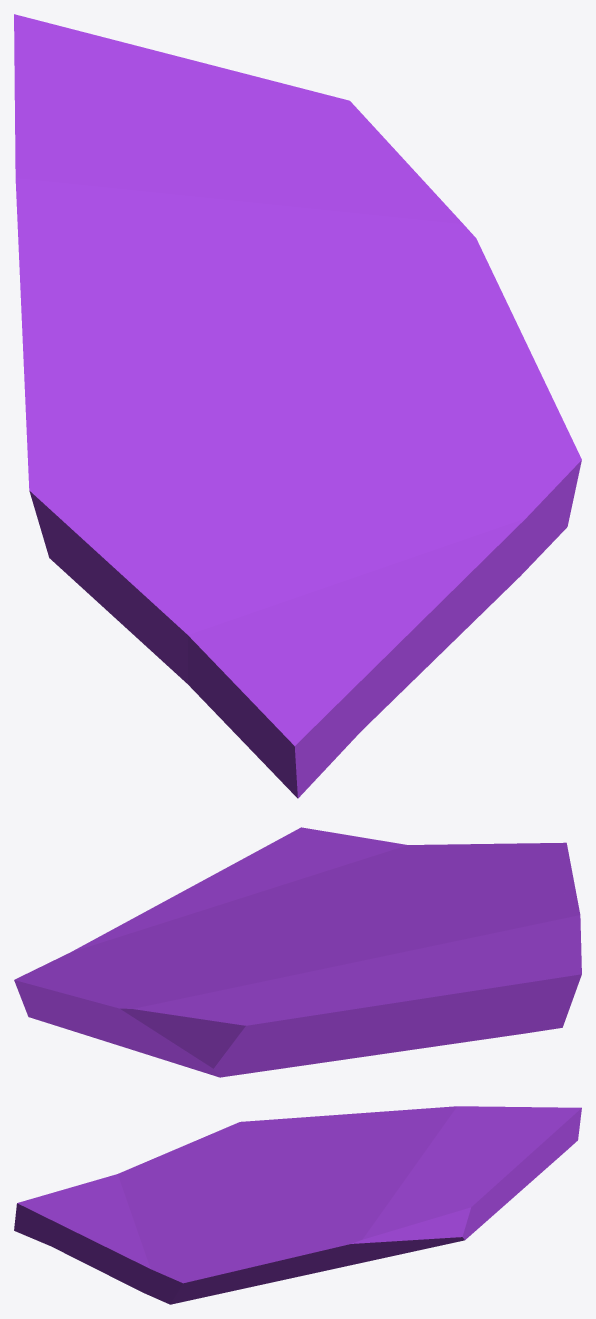
File: Glass_100_3_17_chunks.fbx
The picture shows the model from 3 angles, top to bottom: view 1: azimuth 30°, elevation 25°; view 2: azimuth 210°, elevation 25°; view 3: azimuth 270°, elevation 25°; orthographic projection. The views are drawn at different scales.
Visible parts, largest first — view 1: Glass_100_3_17_0, Glass_100_3_17_2, Glass_100_3_17_3, Glass_100_3_17_6, Glass_100_3_17_5; view 2: Glass_100_3_17_2, Glass_100_3_17_0, Glass_100_3_17_6, Glass_100_3_17_3, Glass_100_3_17_5; view 3: Glass_100_3_17_0, Glass_100_3_17_2, Glass_100_3_17_3, Glass_100_3_17_6, Glass_100_3_17_5, Glass_100_3_17_1.
Part boxes in pixels (x1=…): Glass_100_3_17_0: x1=52, y1=353, x2=581, y2=798; Glass_100_3_17_2: x1=91, y1=34, x2=555, y2=405; Glass_100_3_17_3: x1=20, y1=258, x2=287, y2=560; Glass_100_3_17_6: x1=14, y1=14, x2=158, y2=282; Glass_100_3_17_5: x1=136, y1=107, x2=251, y2=293; Glass_100_3_17_2: x1=40, y1=936, x2=504, y2=1077; Glass_100_3_17_0: x1=14, y1=827, x2=537, y2=1028; Glass_100_3_17_6: x1=437, y1=892, x2=581, y2=1032; Glass_100_3_17_3: x1=309, y1=842, x2=575, y2=942; Glass_100_3_17_5: x1=344, y1=929, x2=527, y2=1038; Glass_100_3_17_0: x1=14, y1=1131, x2=297, y2=1304; Glass_100_3_17_2: x1=224, y1=1130, x2=556, y2=1281; Glass_100_3_17_3: x1=218, y1=1112, x2=383, y2=1192; Glass_100_3_17_6: x1=382, y1=1106, x2=581, y2=1151; Glass_100_3_17_5: x1=344, y1=1143, x2=566, y2=1179; Glass_100_3_17_1: x1=229, y1=1279, x2=283, y2=1291.
Size of the model in its own units: 491 by 288 by 797.
